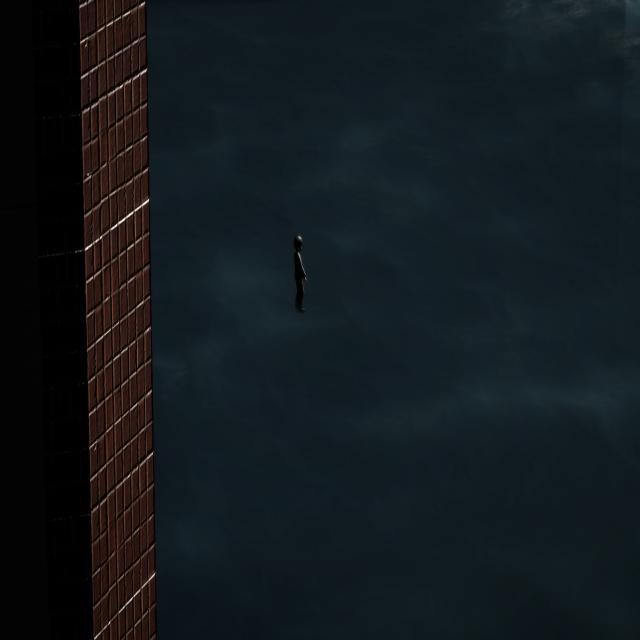Human: (290, 224, 309, 318)
